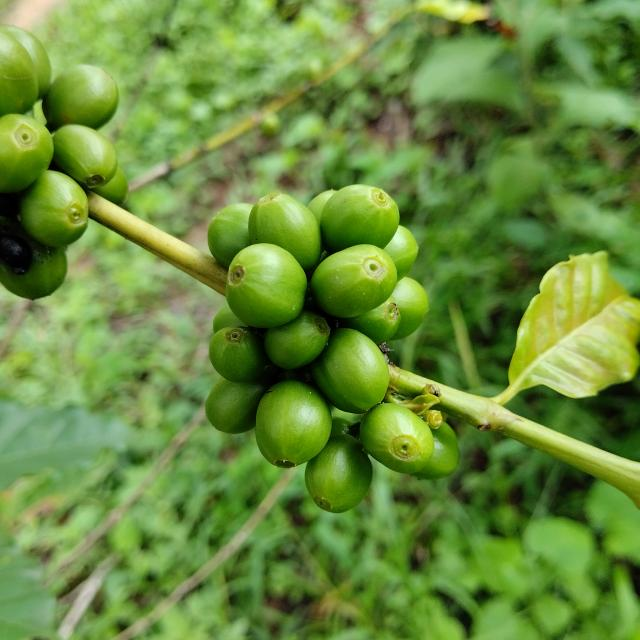green: (225, 243, 307, 328), (255, 380, 332, 469), (310, 329, 390, 414), (310, 244, 398, 318), (248, 193, 322, 271), (18, 169, 87, 247), (305, 435, 373, 514), (320, 184, 400, 251), (360, 404, 435, 474), (41, 64, 118, 129), (0, 234, 66, 300), (0, 113, 53, 193), (52, 124, 117, 188), (264, 310, 330, 370), (0, 24, 51, 98), (205, 377, 270, 434), (209, 327, 268, 383), (0, 30, 38, 116), (338, 296, 401, 345), (207, 203, 253, 268), (412, 422, 460, 480), (391, 277, 429, 340), (384, 225, 419, 281), (89, 167, 128, 205), (307, 189, 337, 223), (212, 305, 247, 333)
red: (0, 234, 32, 275)
